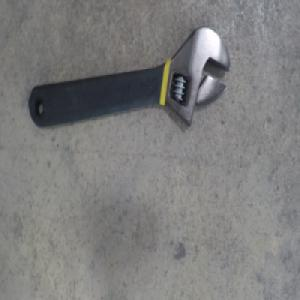AdjustableWrench: (27, 25, 229, 132)
